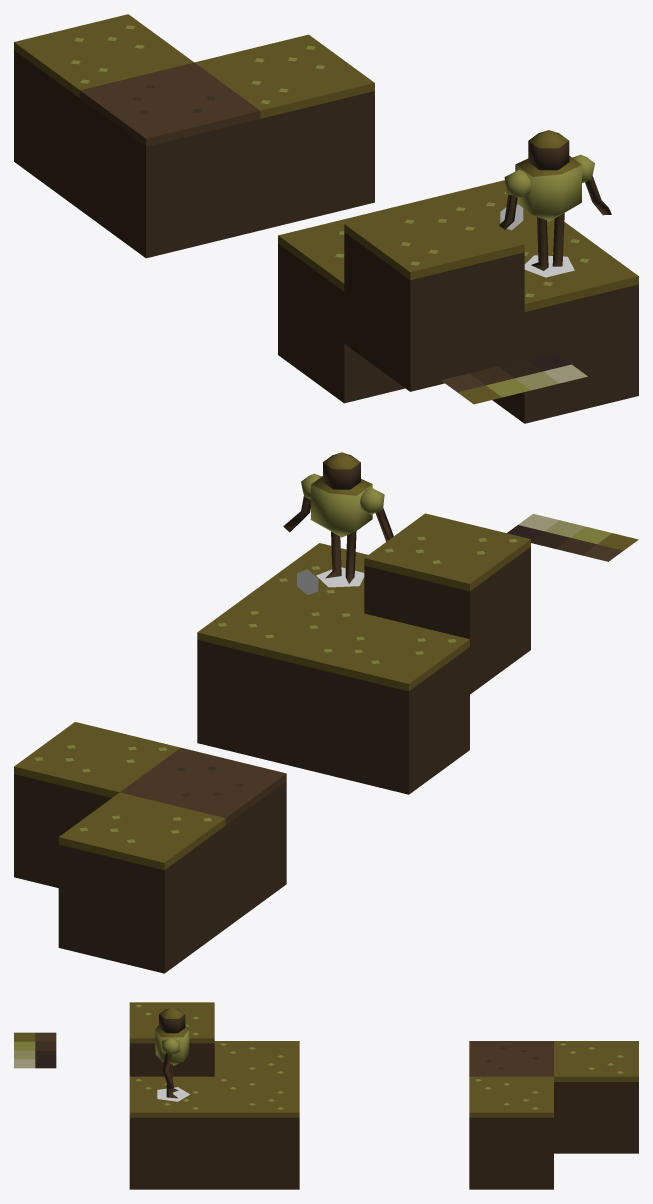
3 renders of one model, top to bottom at view 1: azimuth 30°, elevation 25°; view 2: azimuth 150°, elevation 25°; view 3: azimuth 270°, elevation 25°, orthographic. The views are drawn at different scales.
Parts seen in each view (by area): view 1: Cube.007, Cube.004, Cube.005, Cube.001, Cube.006, Cube.003, Cube, Plane, Cube.002, Circle; view 2: Cube.006, Cube.003, Cube.004, Cube.002, Cube.007, Cube.005, Cube, Cube.001, Plane; view 3: Cube.002, Cube.005, Cube.006, Cube.001, Cube.004, Cube.003, Cube.007, Cube, Plane, Circle.
Part boxes in pixels (x1,y1,x2,y2): Cube.007: [80, 62, 260, 258]; Cube.004: [344, 196, 524, 391]; Cube.005: [194, 34, 374, 230]; Cube.001: [492, 228, 638, 423]; Cube.006: [14, 14, 193, 209]; Cube.003: [278, 207, 404, 403]; Cube: [499, 130, 611, 270]; Plane: [441, 352, 587, 404]; Cube.002: [393, 180, 572, 240]; Circle: [524, 255, 574, 277]; Cube.006: [58, 792, 225, 973]; Cube.003: [303, 613, 469, 794]; Cube.004: [364, 513, 530, 694]; Cube.002: [197, 587, 363, 768]; Cube.007: [120, 747, 286, 928]; Cube.005: [14, 722, 180, 887]; Cube: [283, 452, 393, 583]; Cube.001: [259, 543, 367, 613]; Plane: [507, 513, 638, 561]; Cube.002: [214, 1076, 299, 1189]; Cube.005: [469, 1076, 553, 1189]; Cube.006: [554, 1041, 638, 1153]; Cube.001: [129, 1076, 214, 1189]; Cube.004: [129, 1002, 214, 1076]; Cube.003: [214, 1041, 299, 1076]; Cube.007: [469, 1041, 553, 1076]; Cube: [155, 1007, 189, 1098]; Plane: [14, 1032, 56, 1068]; Circle: [157, 1087, 189, 1101].
Bounding box in the file's own units: 4.54 × 14.73 × 4.27.
